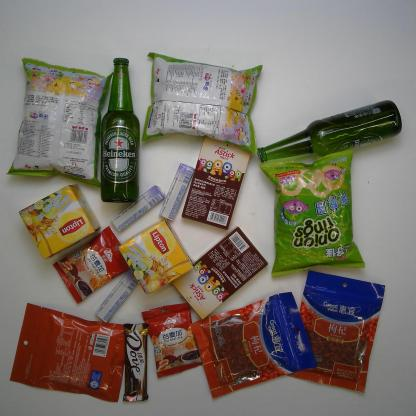Alcohol: (256, 98, 403, 164), (99, 56, 141, 204)
Candy: (110, 184, 166, 233), (94, 268, 138, 325), (157, 162, 196, 223)
Chocolate: (122, 322, 150, 403)
Dessert: (170, 225, 269, 321), (181, 135, 252, 231)
Dried Fruit: (189, 290, 319, 400), (287, 269, 386, 395), (8, 302, 126, 403)
Instant Drink: (17, 184, 102, 262), (52, 224, 130, 305), (116, 218, 196, 296), (140, 302, 204, 380)
Puffed Food: (5, 57, 114, 190), (259, 147, 366, 278), (140, 51, 264, 156)
